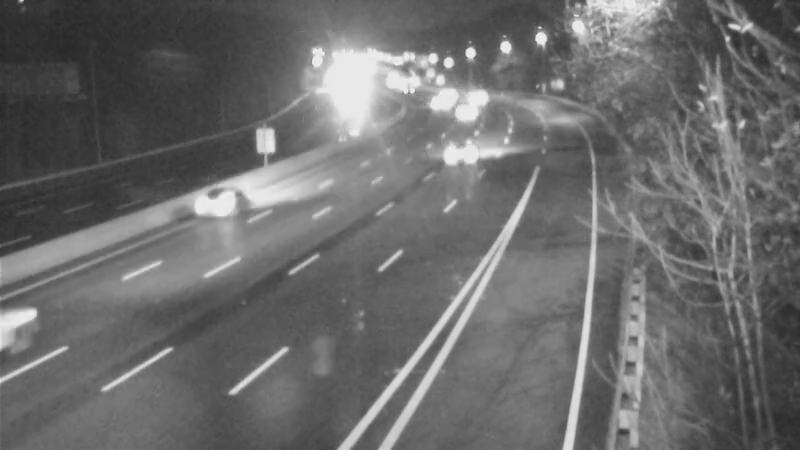vehicle: (1, 278, 88, 388), (417, 119, 497, 199), (179, 167, 259, 247), (442, 86, 492, 136)
